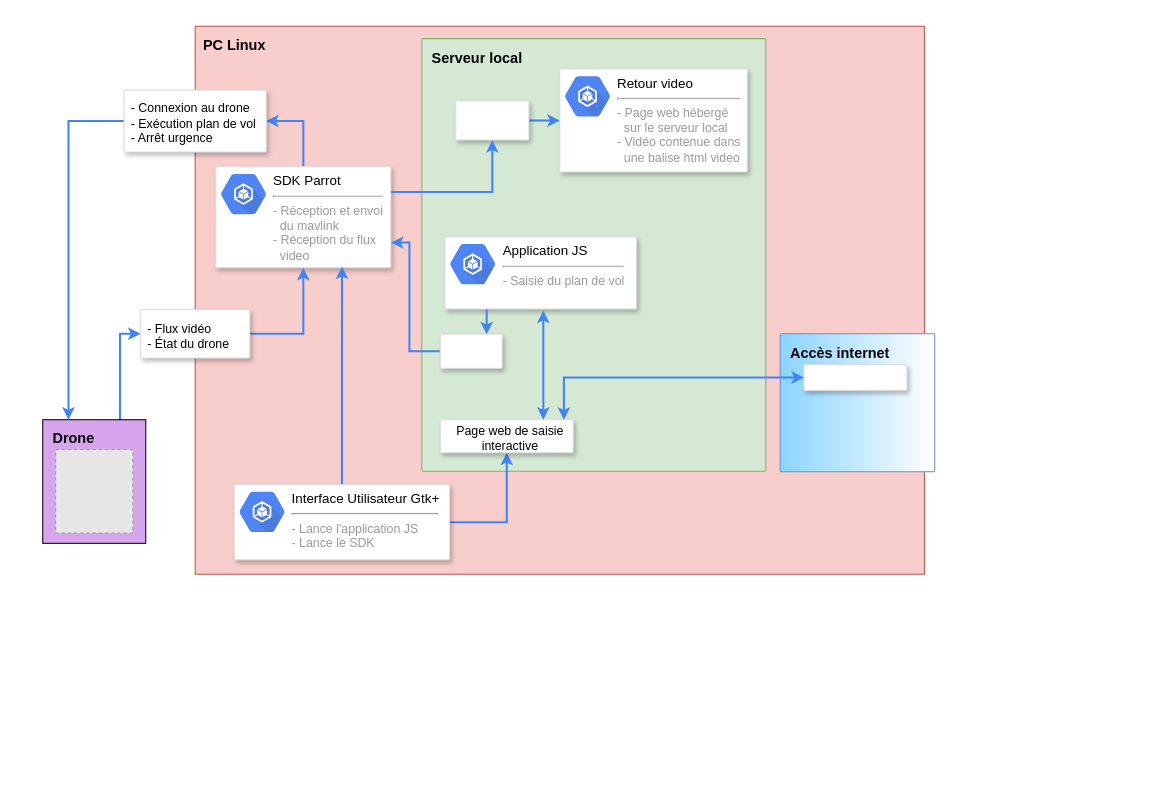
Image size: 1168x797. Some labels were removed from this diagram. Grey dashed boxes stand in for pictures. The centre of each missing label's shape, as x and y in pixels:
Fichier MavLink: (x=471, y=352)
Flux vidéo h.264: (x=493, y=121)
OpenStreetMap: (x=856, y=378)
